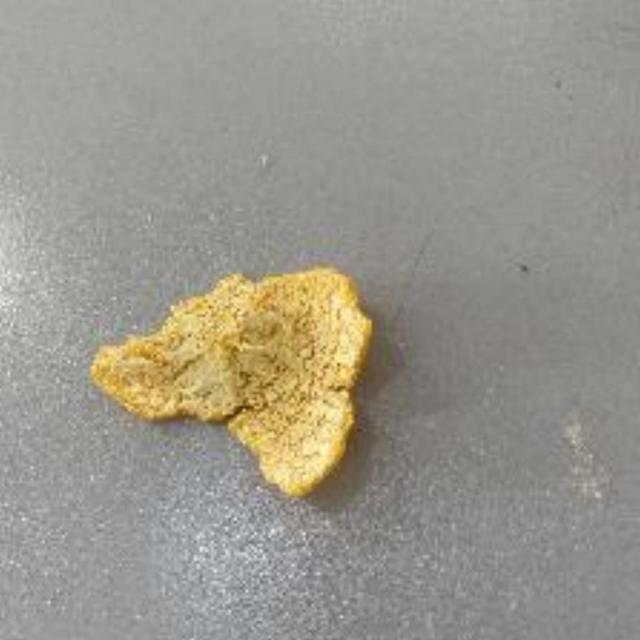orange-peel: (87, 263, 377, 500)
